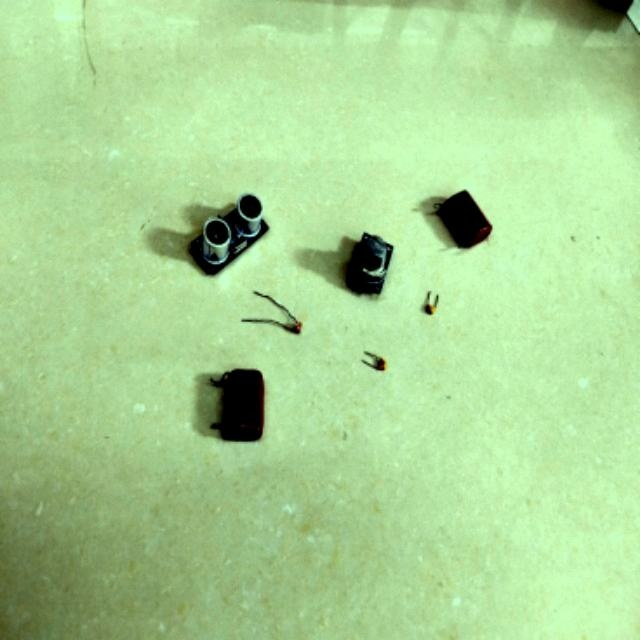capacitor: (216, 370, 264, 442), (438, 192, 488, 248), (364, 354, 385, 371), (426, 304, 433, 315)
